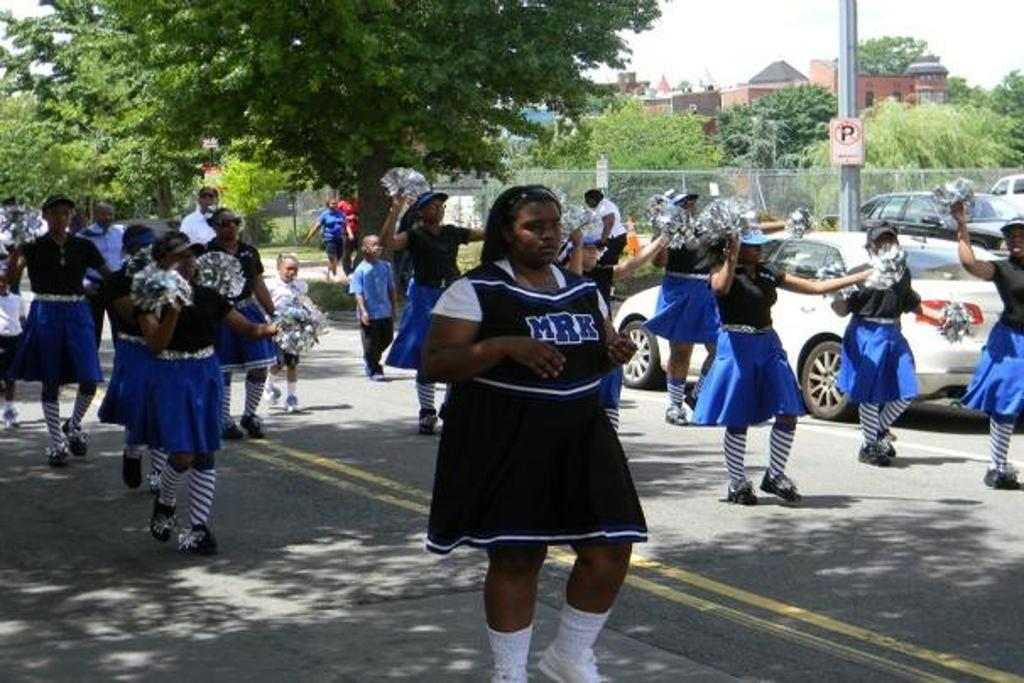face: (511, 202, 560, 265), (166, 250, 196, 279), (871, 235, 897, 259), (216, 213, 239, 237), (577, 242, 599, 267), (47, 205, 71, 226), (1007, 228, 1024, 257), (423, 200, 445, 222), (743, 241, 763, 263), (281, 259, 299, 281), (367, 237, 383, 258), (97, 208, 114, 226), (200, 189, 216, 208), (681, 201, 696, 219), (587, 197, 597, 207), (331, 201, 338, 209)
